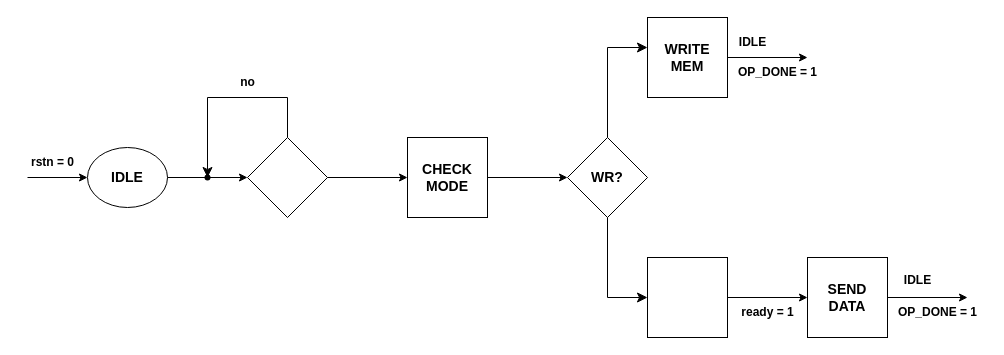
Image size: 1004x355. Some labels were removed from this diagram. The shapes that lost their labels are listed below. From the top down, each one's centre as x and y in pixels, then its label:
point 287,177: !CS
point 687,297: READ ADDR
